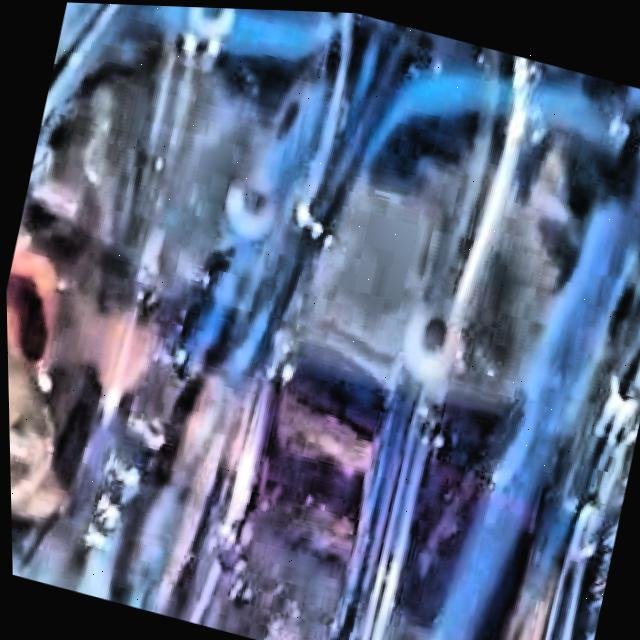plastic: (5, 2, 640, 640)
